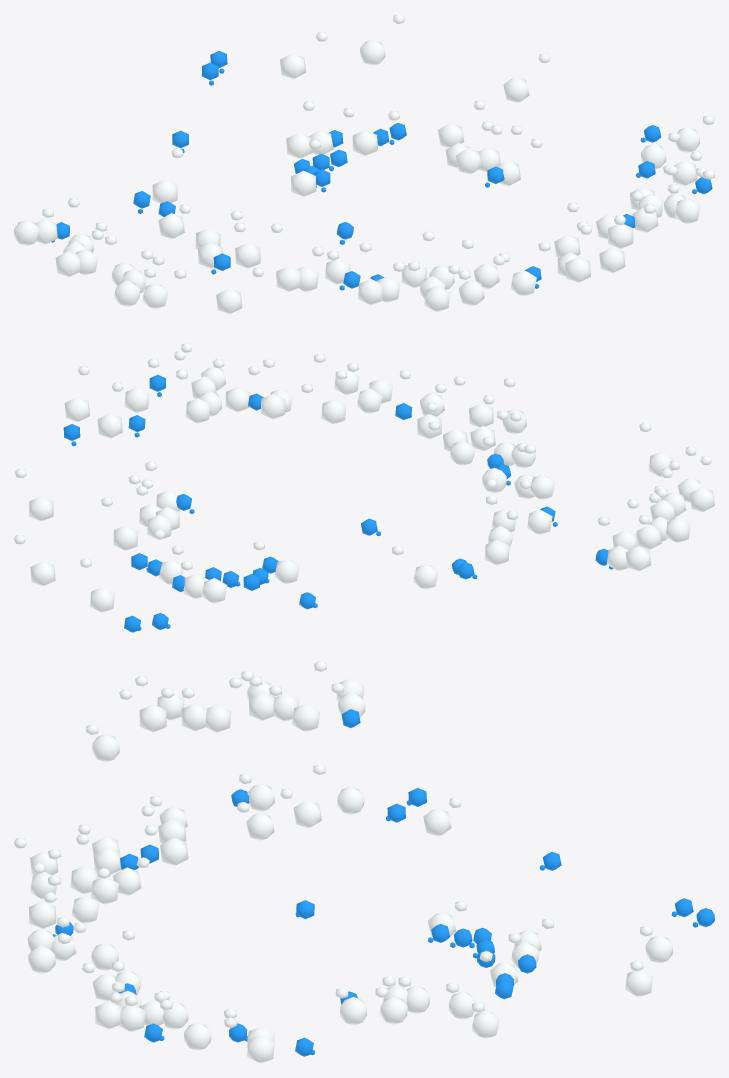
File: model_chunk_1.glb
3 renders of one model, top to bottom at view 1: azimuth 30°, elevation 25°; view 2: azimuth 150°, elevation 25°; view 3: azimuth 270°, elevation 25°, orthographic. The views are drawn at different scales.
Parts seen in each view (by area): view 1: SplashParticle01354, SplashParticle01542, SplashParticle01346, SplashParticle01376, SplashParticle01444, SplashParticle01478, SplashParticle01383, SplashParticle01138, SplashParticle01339, SplashParticle01491, SplashParticle01547, SplashParticle01470 (+30 smaller); view 2: SplashParticle01492, SplashParticle01568, SplashParticle01521, SplashParticle01581, SplashParticle01476, SplashParticle01518, SplashParticle01393, SplashParticle01408, SplashParticle01612, SplashParticle01495, SplashParticle01528, SplashParticle01547 (+28 smaller); view 3: SplashParticle01144, SplashParticle01401, SplashParticle01600, SplashParticle01528, SplashParticle01325, SplashParticle01339, SplashParticle01478, SplashParticle01564, SplashParticle01518, SplashParticle01547, SplashParticle01563, SplashParticle01408 (+22 smaller).
Part boxes in pixels (x1=…): SplashParticle01354: x1=235, y1=223, x2=282, y2=268; SplashParticle01542: x1=352, y1=111, x2=400, y2=156; SplashParticle01346: x1=276, y1=246, x2=323, y2=291; SplashParticle01376: x1=358, y1=262, x2=404, y2=305; SplashParticle01444: x1=291, y1=139, x2=320, y2=197; SplashParticle01478: x1=599, y1=215, x2=625, y2=273; SplashParticle01383: x1=424, y1=270, x2=470, y2=312; SplashParticle01138: x1=55, y1=230, x2=103, y2=277; SplashParticle01339: x1=216, y1=267, x2=263, y2=314; SplashParticle01491: x1=608, y1=204, x2=655, y2=249; SplashParticle01547: x1=280, y1=32, x2=327, y2=79; SplashParticle01470: x1=565, y1=225, x2=591, y2=282; SplashParticle01492: x1=248, y1=366, x2=285, y2=419; SplashParticle01568: x1=101, y1=497, x2=138, y2=550; SplashParticle01521: x1=97, y1=382, x2=123, y2=438; SplashParticle01581: x1=15, y1=468, x2=53, y2=521; SplashParticle01476: x1=301, y1=383, x2=346, y2=424; SplashParticle01518: x1=124, y1=358, x2=159, y2=413; SplashParticle01393: x1=453, y1=376, x2=493, y2=427; SplashParticle01408: x1=484, y1=510, x2=518, y2=565; SplashParticle01612: x1=14, y1=535, x2=55, y2=586; SplashParticle01495: x1=212, y1=358, x2=250, y2=412; SplashParticle01528: x1=64, y1=366, x2=89, y2=422; SplashParticle01547: x1=80, y1=558, x2=114, y2=612; SplashParticle01144: x1=119, y1=689, x2=166, y2=732; SplashParticle01401: x1=29, y1=892, x2=56, y2=928; SplashParticle01600: x1=144, y1=825, x2=188, y2=866; SplashParticle01528: x1=224, y1=1017, x2=274, y2=1063; SplashParticle01325: x1=269, y1=685, x2=320, y2=732; SplashParticle01339: x1=85, y1=724, x2=119, y2=762; SplashParticle01478: x1=28, y1=933, x2=70, y2=973; SplashParticle01564: x1=375, y1=987, x2=407, y2=1024; SplashParticle01518: x1=160, y1=999, x2=211, y2=1051; SplashParticle01547: x1=639, y1=925, x2=672, y2=963; SplashParticle01563: x1=335, y1=988, x2=367, y2=1025; SplashParticle01408: x1=313, y1=764, x2=364, y2=814.
Bounding box in the file's own units: 1.13 × 0.1827 × 0.9882.
1 material, 1 textured.
